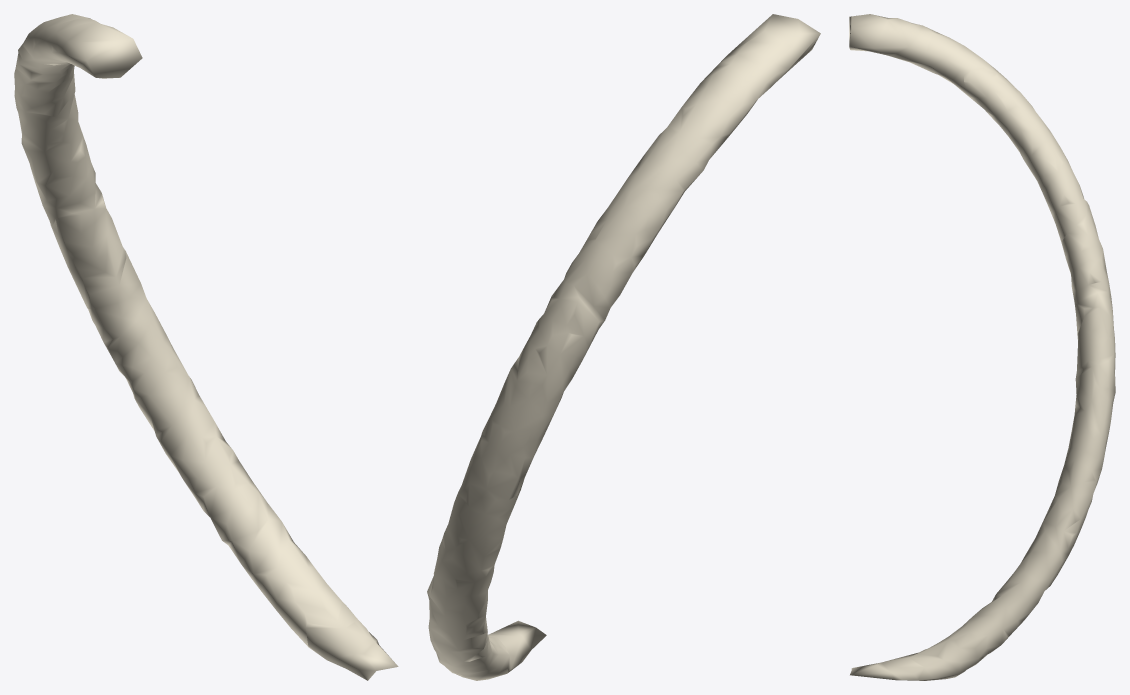
File: rib_1_r.glb
3 renders of one model, left to right at view 1: azimuth 30°, elevation 25°; view 2: azimuth 150°, elevation 25°; view 3: azimuth 270°, elevation 25°, orthographic. The views are drawn at different scales.
Visible parts, largest first — view 1: geometry_0; view 2: geometry_0; view 3: geometry_0.
Part boxes in pixels (x1,y1,x2,y2): geometry_0: (14,14,398,680); geometry_0: (427,14,820,680); geometry_0: (849,14,1115,680).
Bounding box in the file's own units: 0.2031 × 0.4195 × 0.1824.
